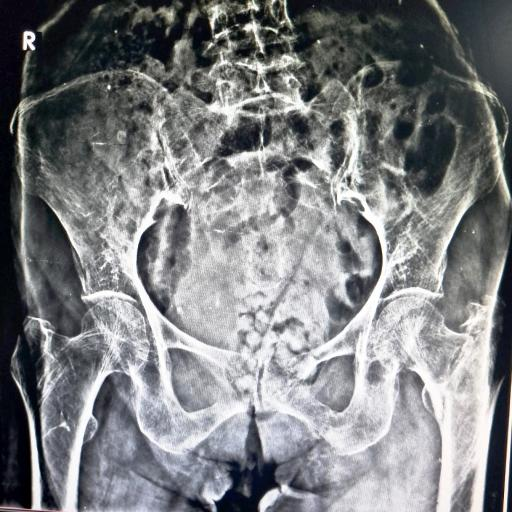neck: (422, 295, 512, 467), (373, 297, 476, 417)
normal: (9, 298, 149, 490)
